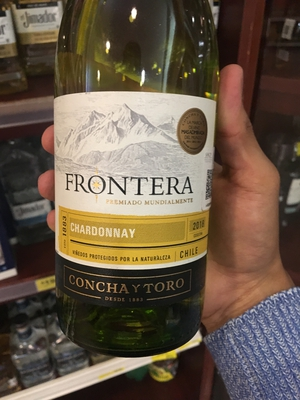frontera chardonnay: (51, 9, 220, 347)
